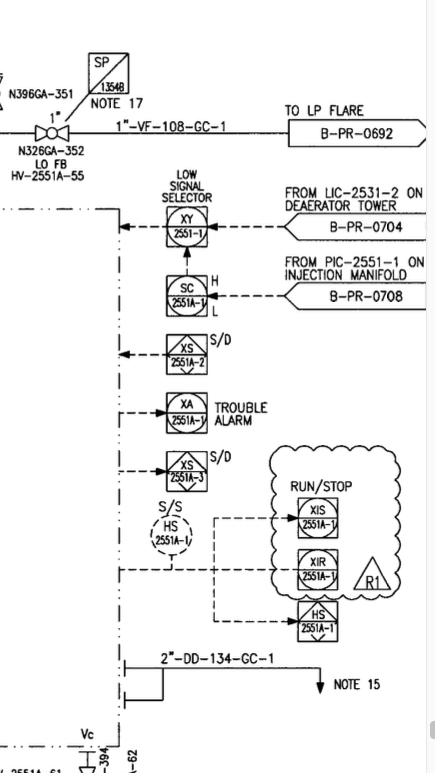Instrument: (147, 512, 199, 560)
Instrument-square: (158, 202, 217, 251), (156, 272, 213, 321), (160, 329, 213, 379), (294, 493, 341, 543), (292, 597, 339, 645), (163, 448, 210, 495), (163, 390, 211, 436), (294, 548, 340, 593)
